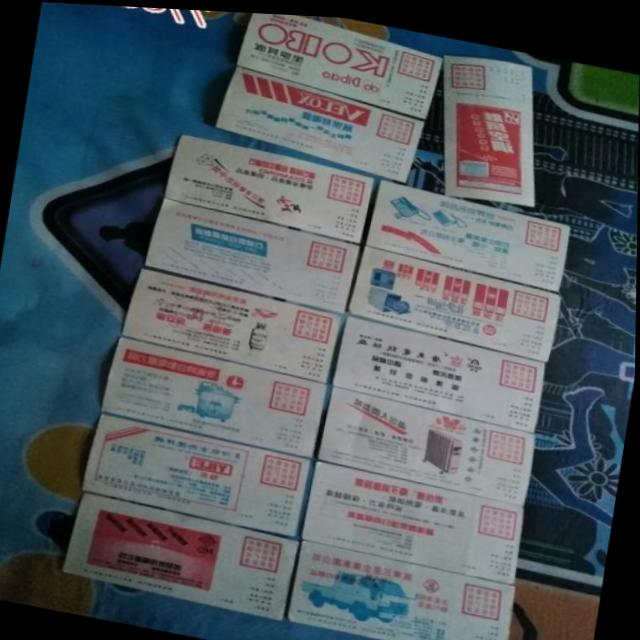box: (64, 492, 300, 618), (83, 411, 313, 533), (102, 335, 330, 456), (303, 456, 525, 579), (319, 383, 536, 501), (332, 310, 547, 427), (122, 267, 344, 380), (146, 196, 361, 310), (214, 62, 423, 179), (349, 242, 562, 356), (288, 536, 517, 640), (164, 131, 374, 240), (366, 176, 570, 285), (237, 10, 445, 114), (444, 51, 536, 201)
